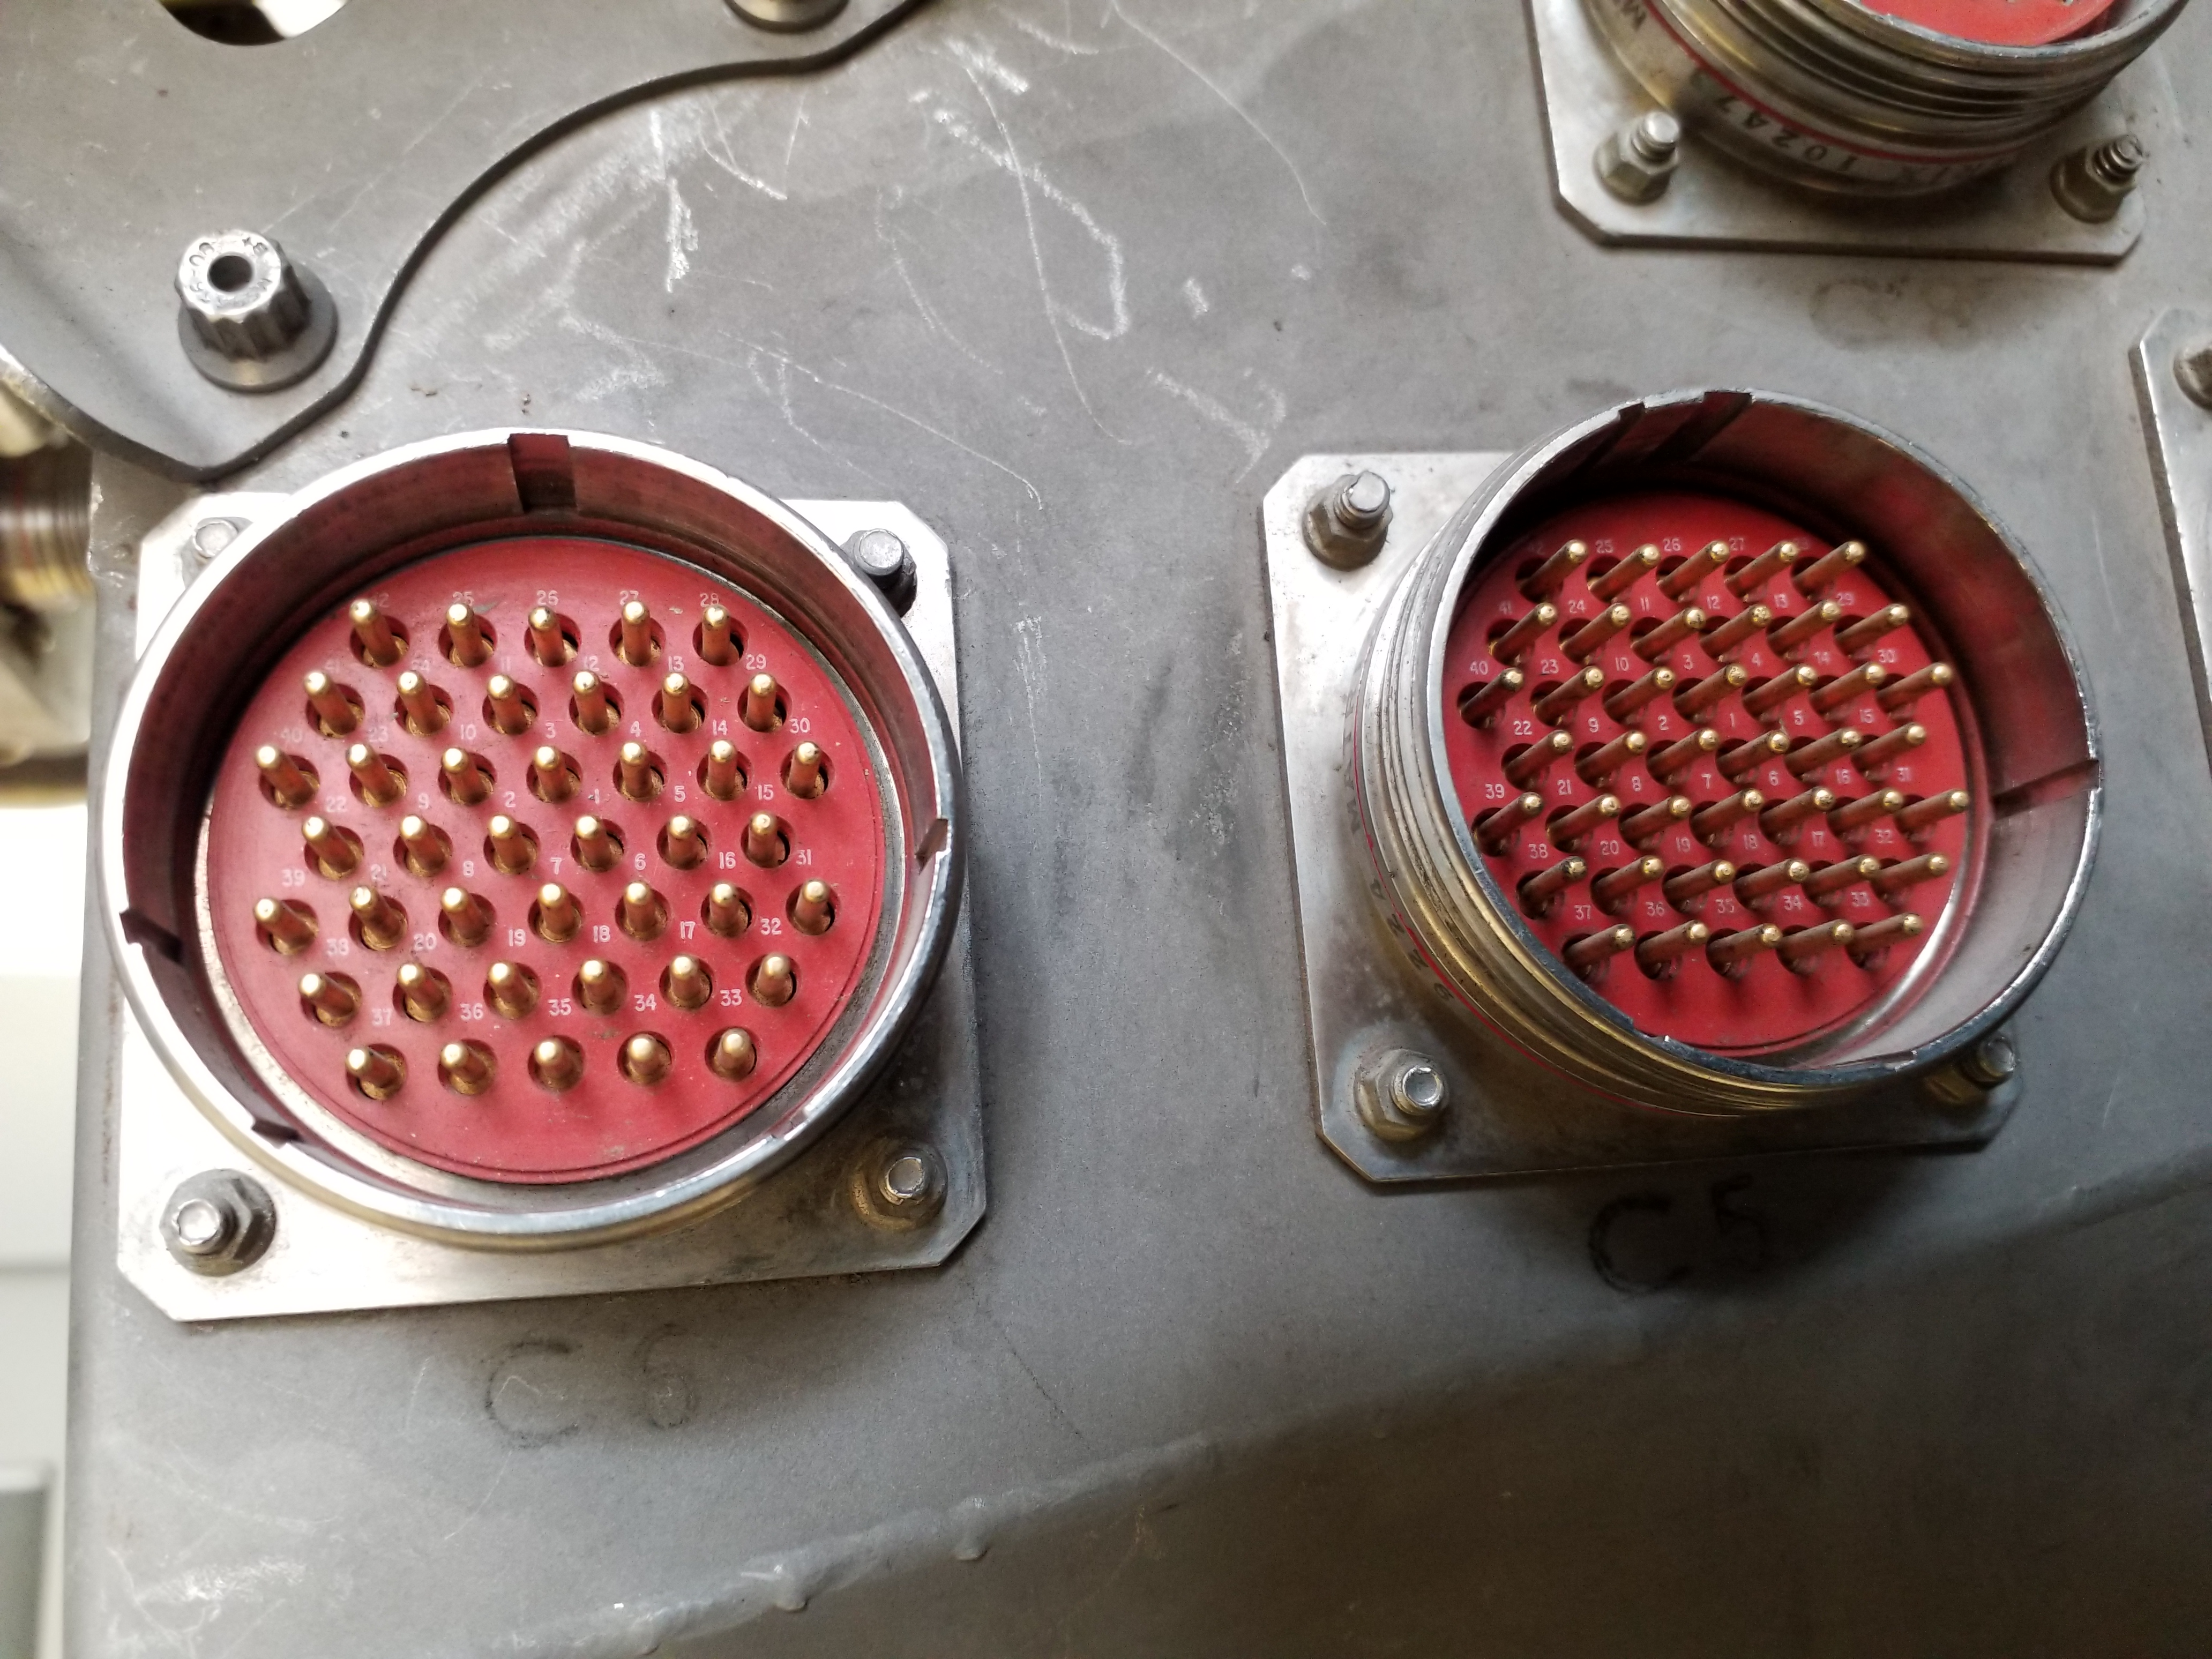outlet: (94, 416, 965, 1239), (1372, 361, 2111, 1122)
